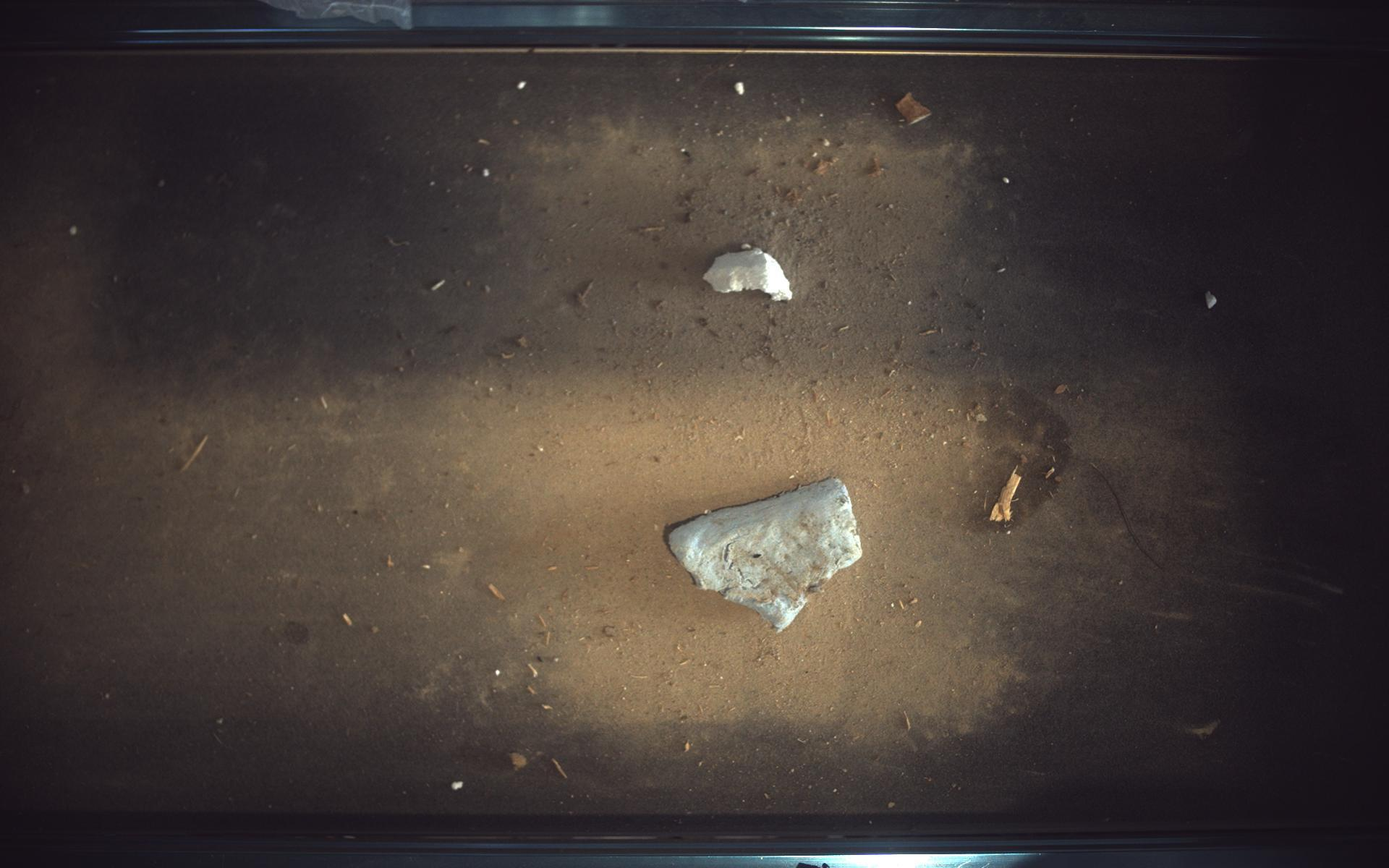foam: (668, 479, 863, 633), (705, 247, 794, 300)
